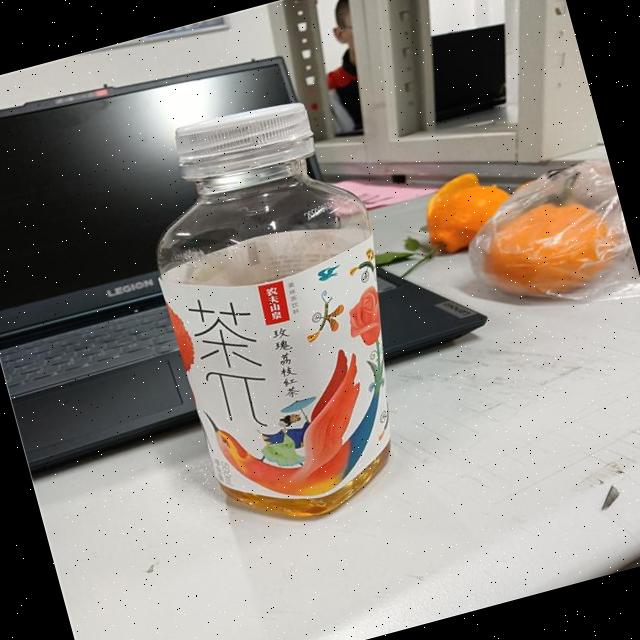orange-peel: (413, 137, 627, 324), (468, 185, 626, 312), (414, 162, 520, 258)
